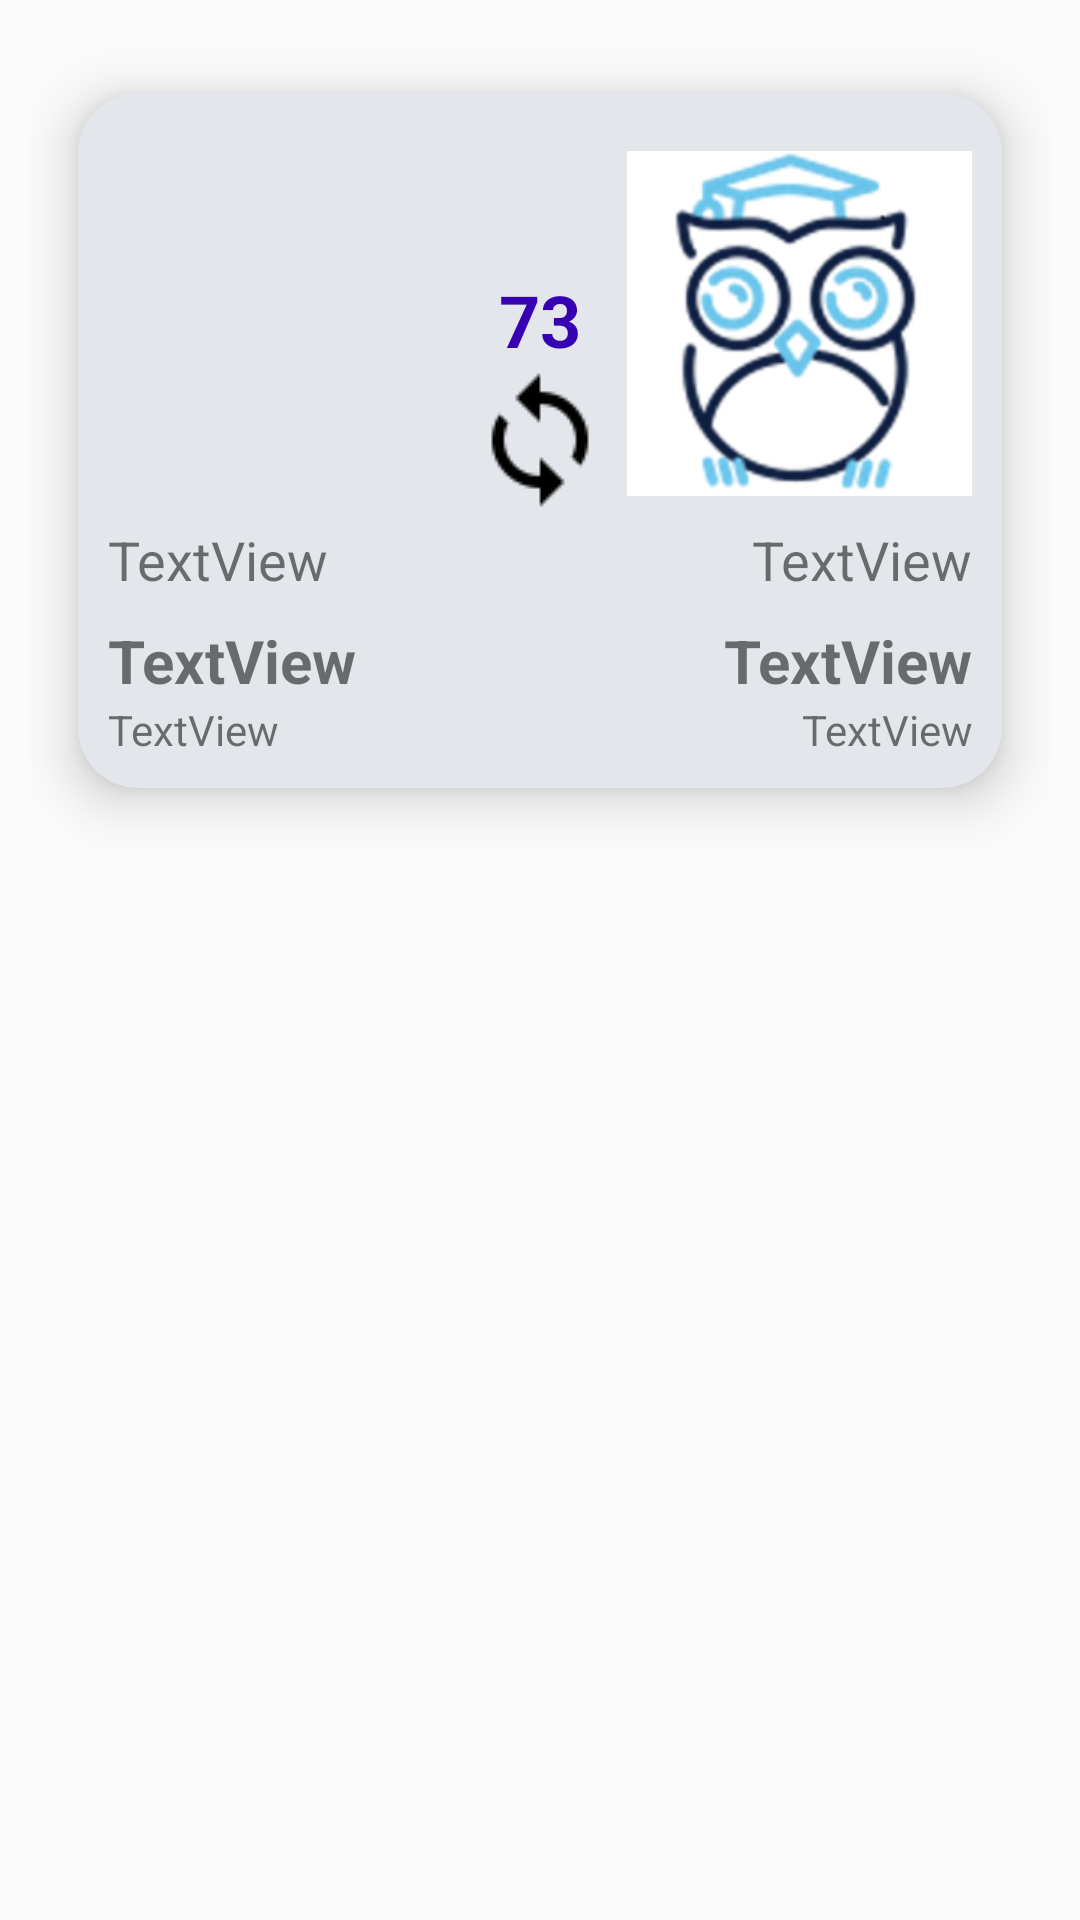

Named icons in this screenshot (1080px x 1920px) and their centers, [x,y]:
bookclub: [799,323]
sync: [540,440]
